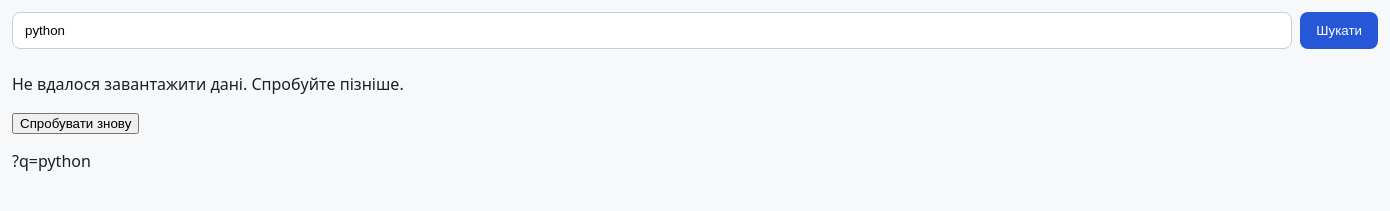
Scenario: CatalogPage › повторює той самий запит після помилки
This screenshot has width=1390, height=211.
expect the message "Не вдалося завантажити дані. Спробуйте пізніше." is shown: met, box [12,73,404,95]
Click the button "Спробувати знову".
click(76, 124)  # box [12,113,139,134]
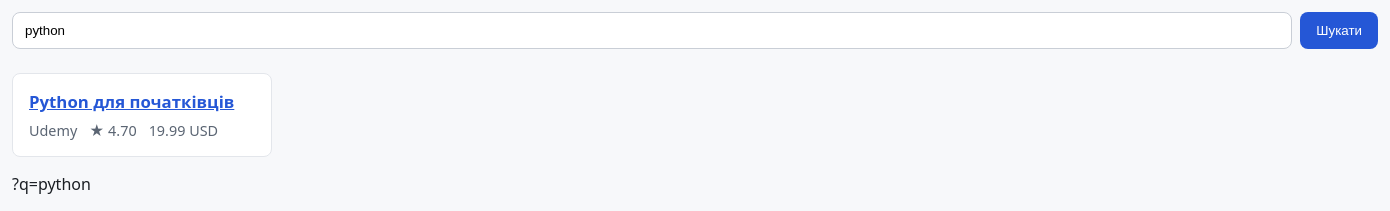
expect the link "Python для початківців" is shown: met, box [29,90,234,113]
expect the message "Не вдалося завантажити дані. Спробуйте пізніше." is gone: met
